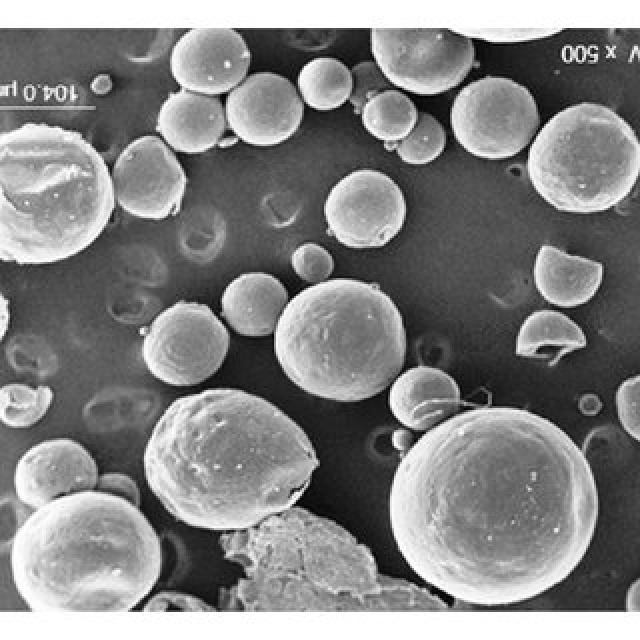cells: (385, 404, 602, 604), (135, 378, 324, 536), (8, 490, 168, 616), (269, 271, 406, 408), (0, 119, 116, 272), (523, 91, 640, 220), (137, 294, 234, 390), (321, 163, 412, 256), (449, 76, 544, 164), (116, 127, 192, 232), (369, 29, 478, 100), (11, 438, 100, 518), (223, 67, 306, 152), (524, 236, 608, 310), (164, 30, 254, 96), (216, 266, 292, 344), (151, 86, 228, 162), (387, 364, 462, 436), (505, 307, 592, 366), (361, 79, 414, 148), (293, 57, 354, 114), (389, 111, 446, 171), (0, 380, 53, 431), (291, 246, 332, 285), (86, 68, 117, 99)
